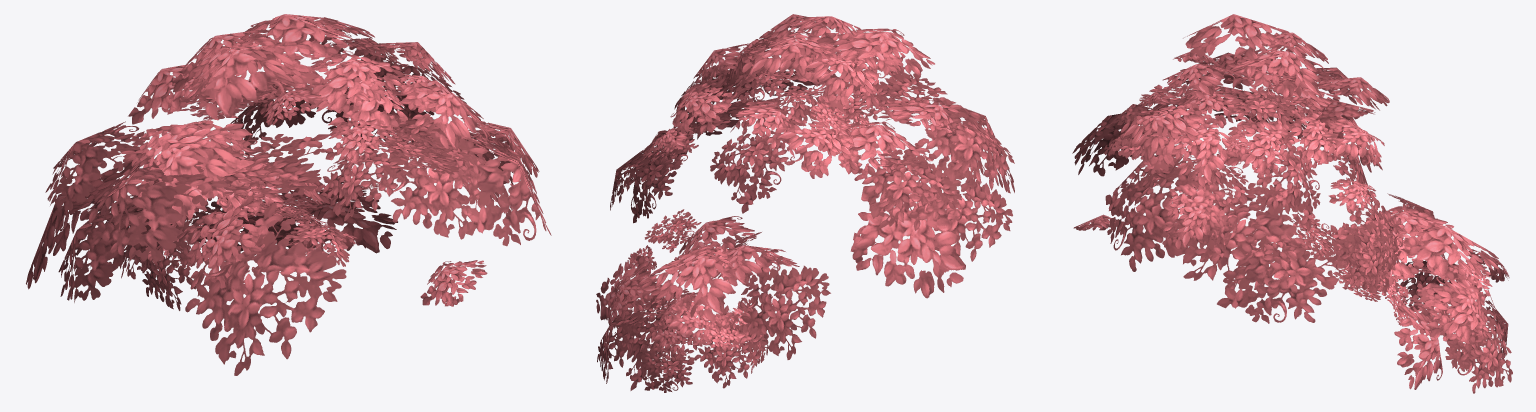
File: Yland1_yz_10 Yland1.FBX
3 views of the same model, side by side, from view 1: azimuth 30°, elevation 25°; view 2: azimuth 150°, elevation 25°; view 3: azimuth 270°, elevation 25° (orthographic). The views are drawn at different scales.
Visible parts, largest first — view 1: Yland1_yz_10 Yland1; view 2: Yland1_yz_10 Yland1; view 3: Yland1_yz_10 Yland1.
Boxes of the visible parts, left/top/right/bottom form: Yland1_yz_10 Yland1: left=26, top=14, right=551, bottom=375; Yland1_yz_10 Yland1: left=596, top=14, right=1014, bottom=392; Yland1_yz_10 Yland1: left=1072, top=14, right=1512, bottom=393.
Bounding box in the file's own units: 4.76 × 3.64 × 4.94.
